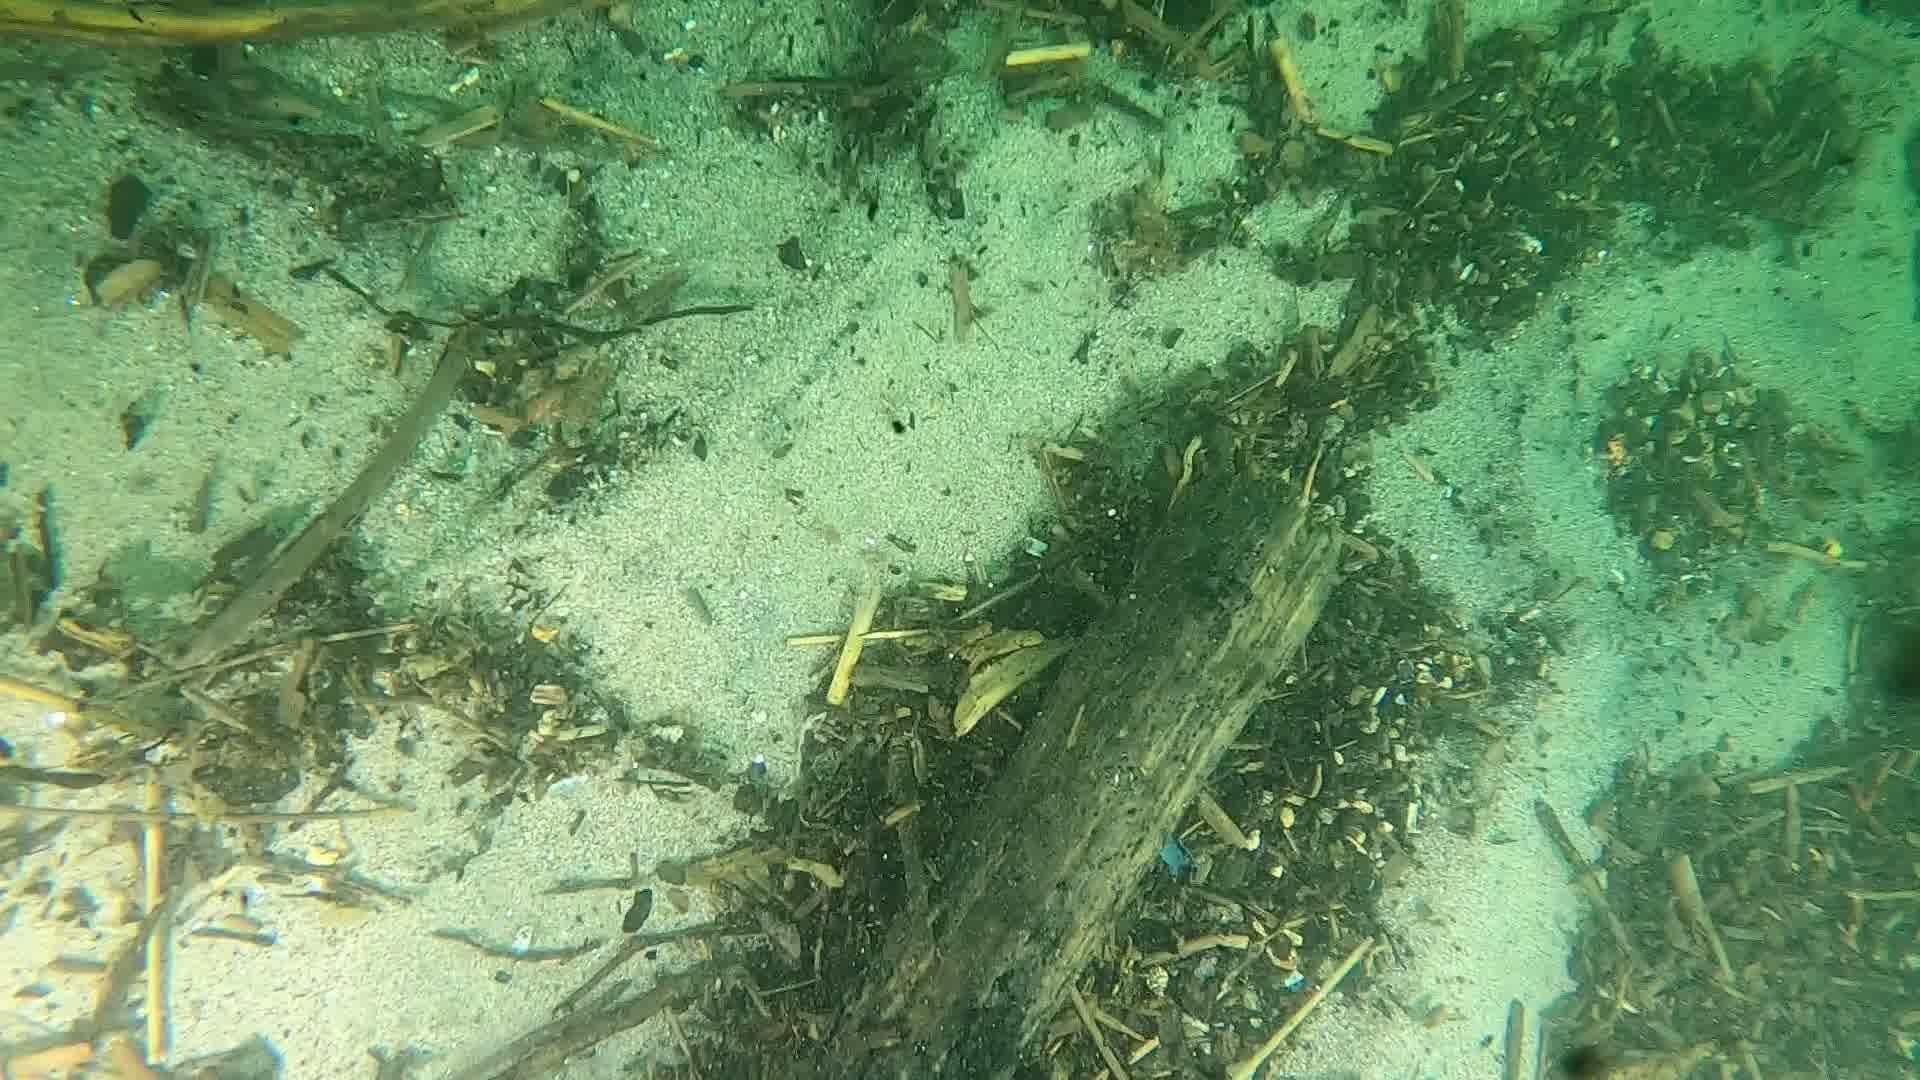wood: (794, 471, 1338, 1080)
